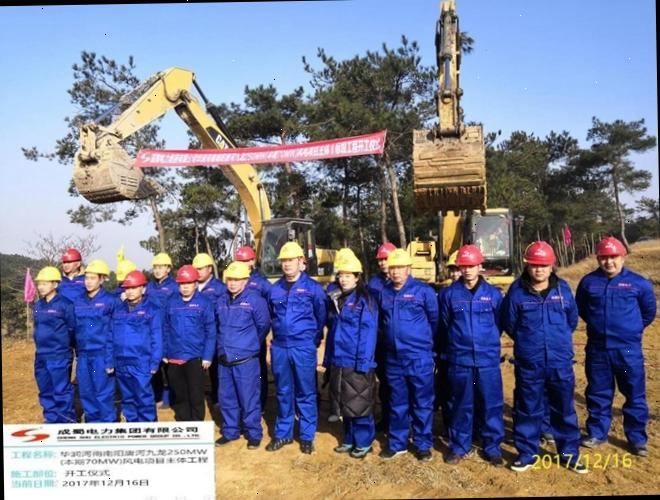helmet: (445, 242, 486, 270), (523, 239, 559, 266), (333, 248, 366, 275), (592, 236, 626, 258), (276, 240, 308, 261), (32, 266, 62, 285), (384, 248, 412, 268), (222, 262, 251, 280), (84, 259, 112, 277), (230, 244, 258, 262), (174, 264, 198, 284), (120, 270, 146, 288), (190, 250, 215, 268), (61, 246, 86, 262), (151, 250, 175, 266), (116, 257, 138, 273), (374, 242, 394, 259)
wear: (510, 282, 578, 369), (379, 283, 432, 378), (447, 283, 501, 370), (577, 273, 643, 344), (215, 285, 266, 366), (268, 280, 321, 354), (165, 293, 214, 370), (330, 289, 375, 368), (72, 293, 116, 360), (36, 296, 71, 367)
